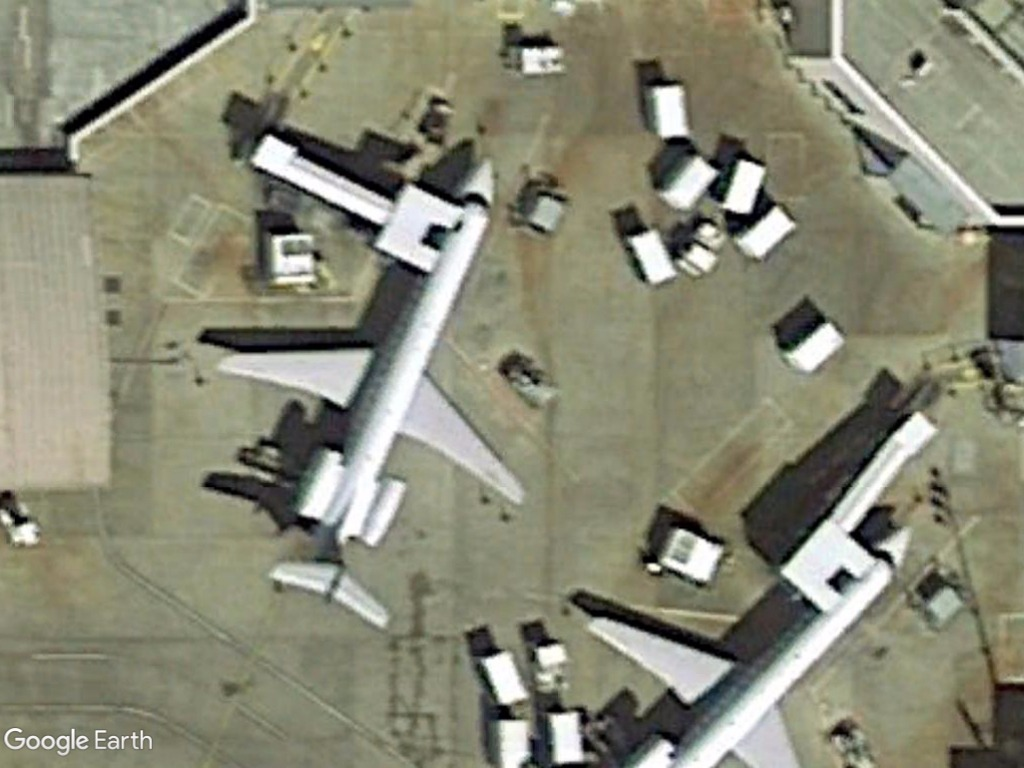chartered: (209, 151, 531, 632)
